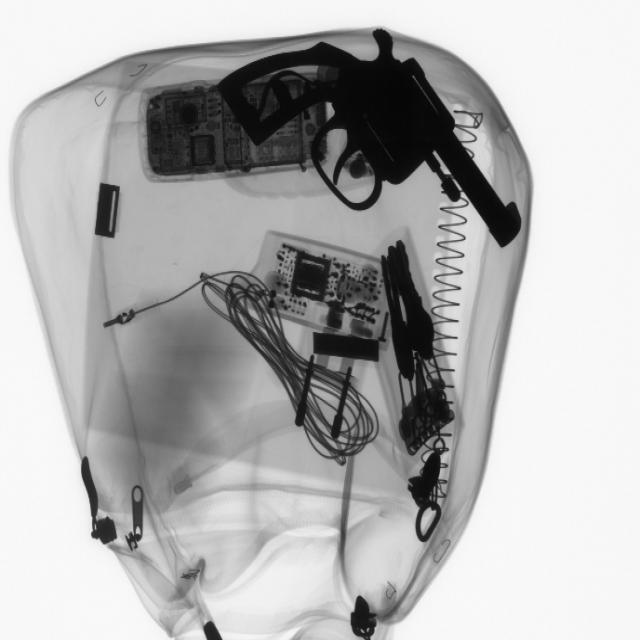GUN: (221, 27, 533, 260)
